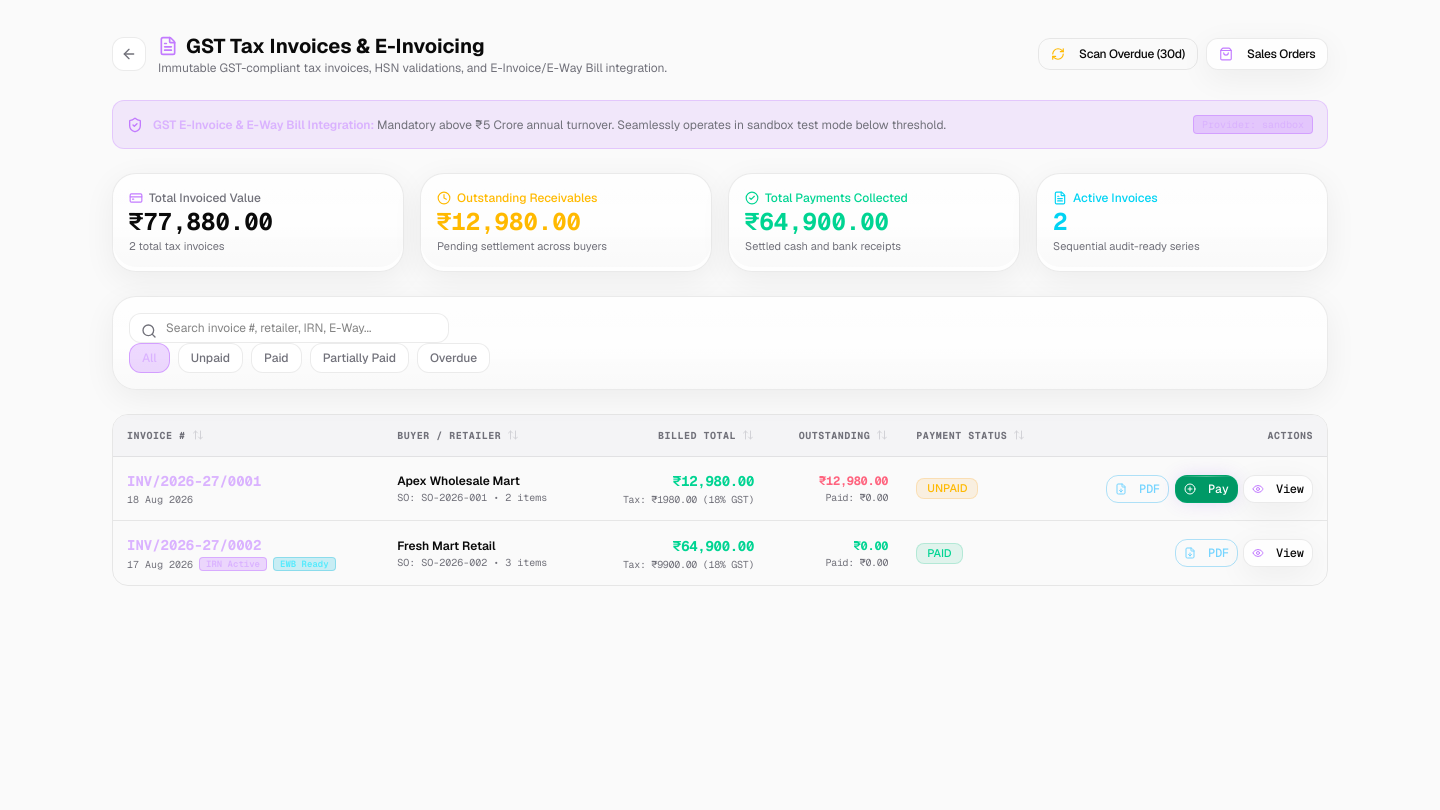
Test: GST Invoices & Billing UI › opens invoice detail preview modal with GST breakdown, HSN codes, and print action
Click the button "View" in the row of "INV/2026-27/0001". click: (1278, 489)
box: [1243,475,1313,503]
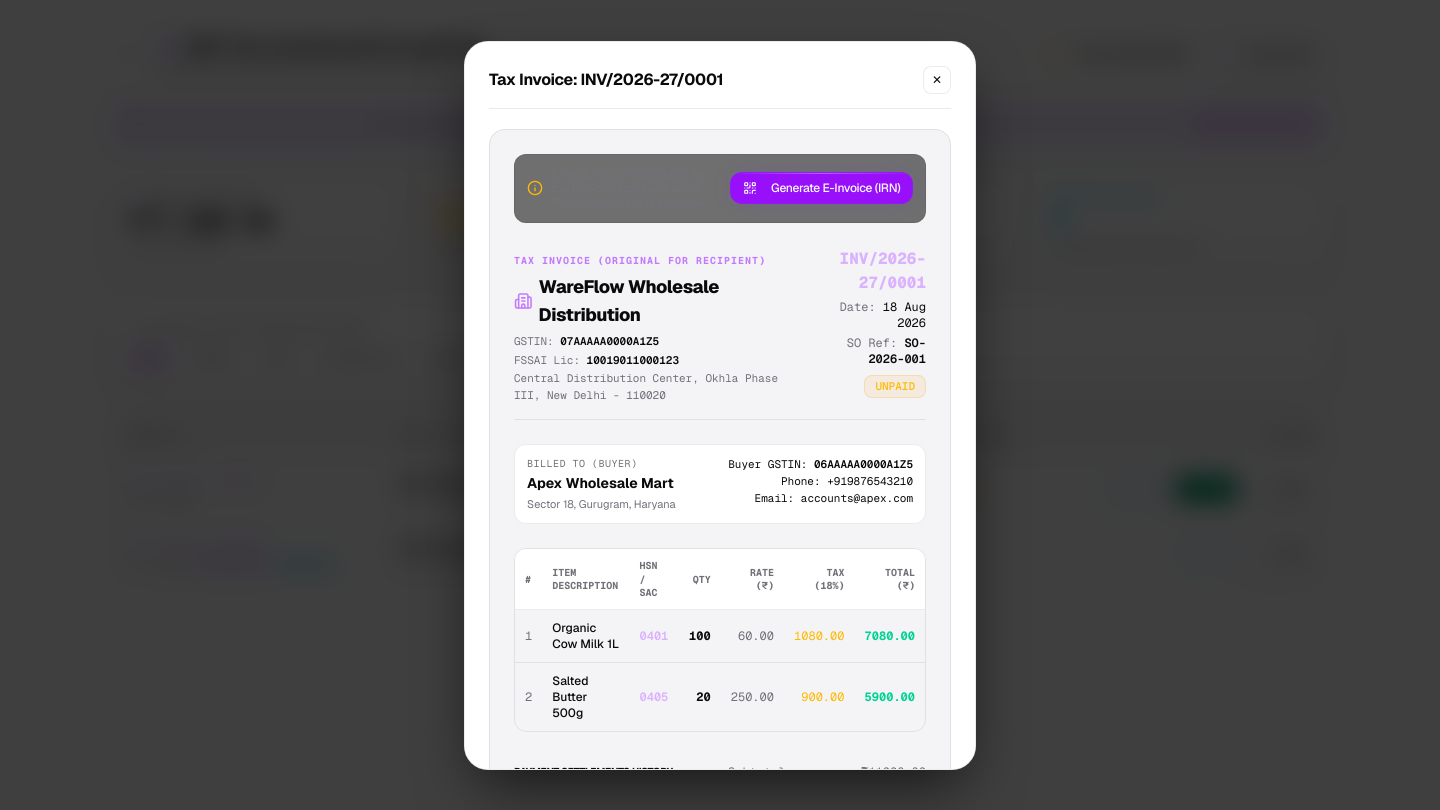
Expected: the heading "WareFlow Wholesale Distribution" is shown, [514,276,719,326]
Expected: the text "06AAAAA0000A1Z5" is shown, [814,458,913,472]
Expected: the text "Organic Cow Milk 1L" is shown, [542,610,630,663]
